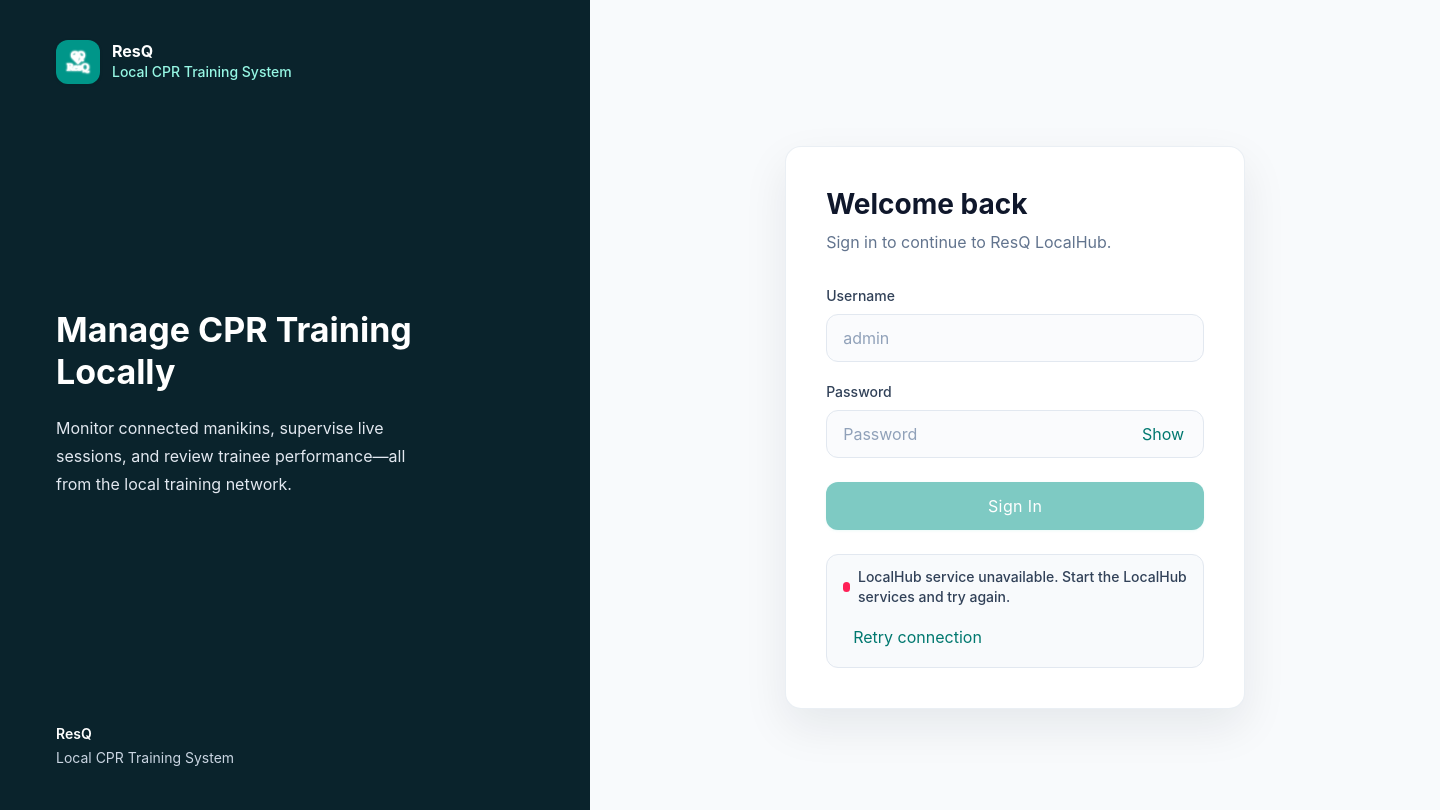
Test: V2 LoginPage › shows unavailable connection state and retries health checks
Expected: the text "LocalHub service unavailable. Start the LocalHub services and try again." is shown, x1=843 y1=567 x2=1187 y2=607
Click the button "Retry connection" at x=918, y=637, box x1=843 y1=619 x2=992 y2=655
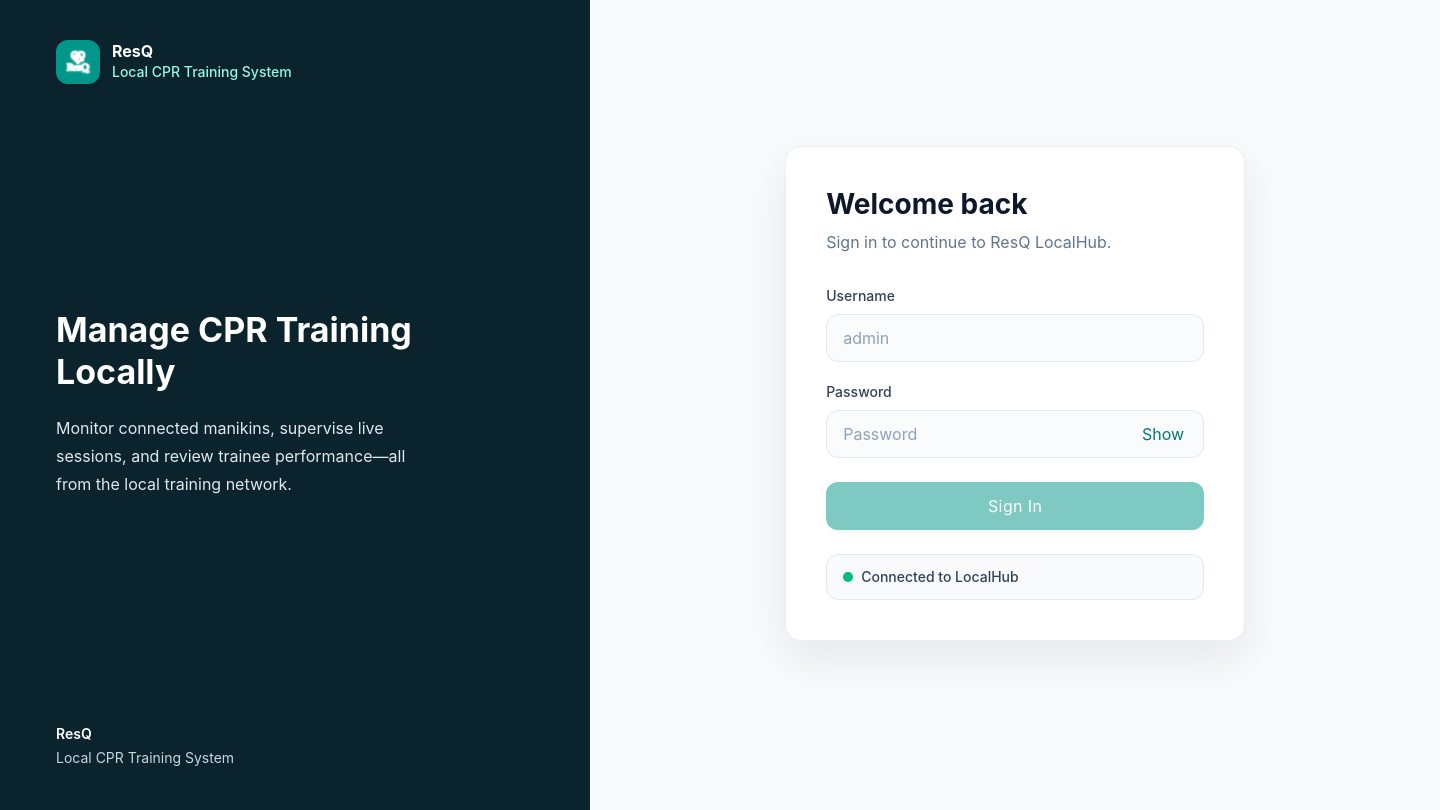
Expected: the text "Connected to LocalHub" is shown, x1=843 y1=567 x2=1019 y2=587
